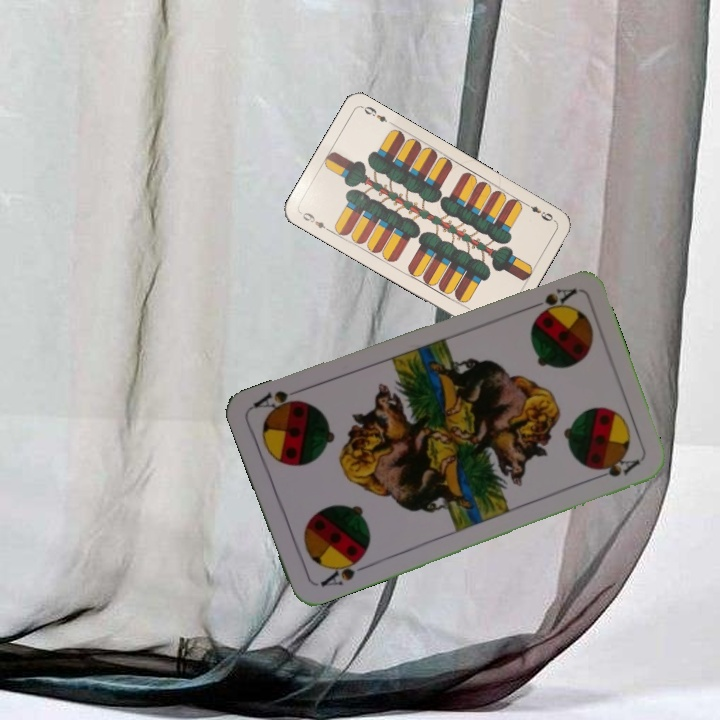E9: (296, 208, 333, 234), (521, 198, 556, 224)
SA: (316, 551, 371, 590), (522, 284, 579, 318)
